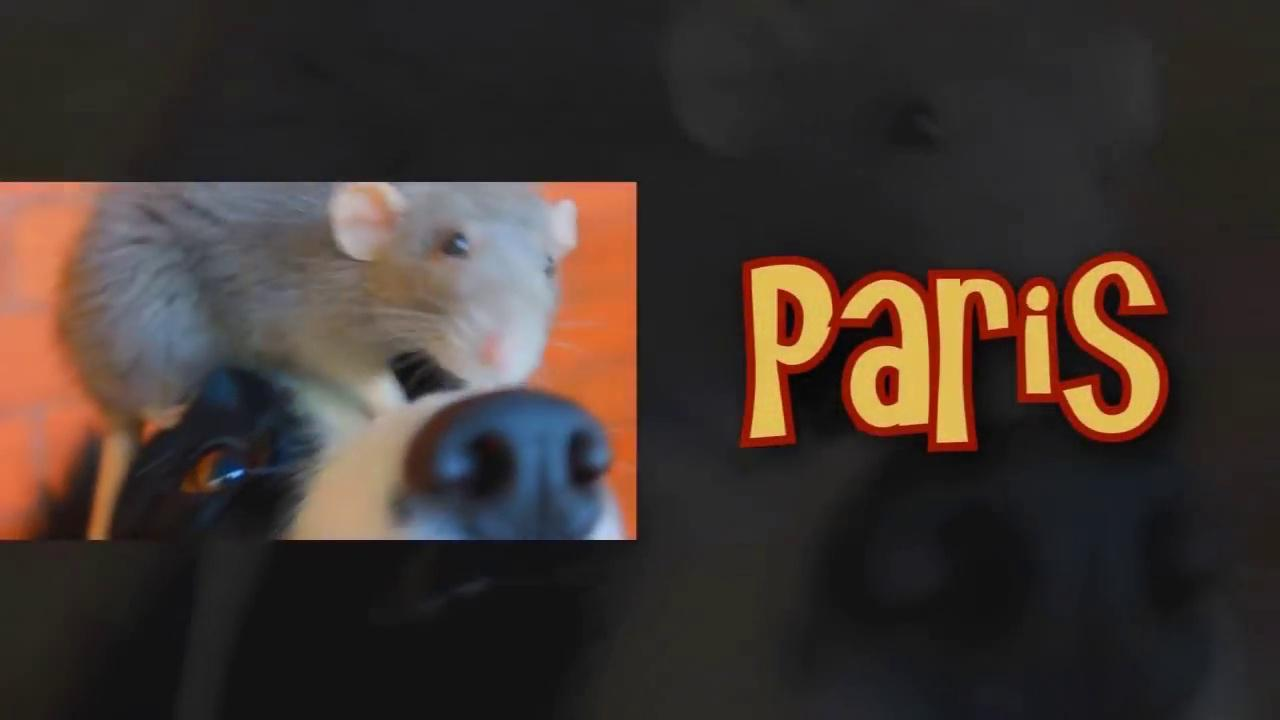rat: (59, 185, 576, 542)
